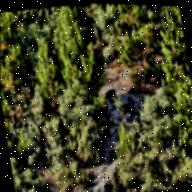boar: (101, 84, 125, 107)
